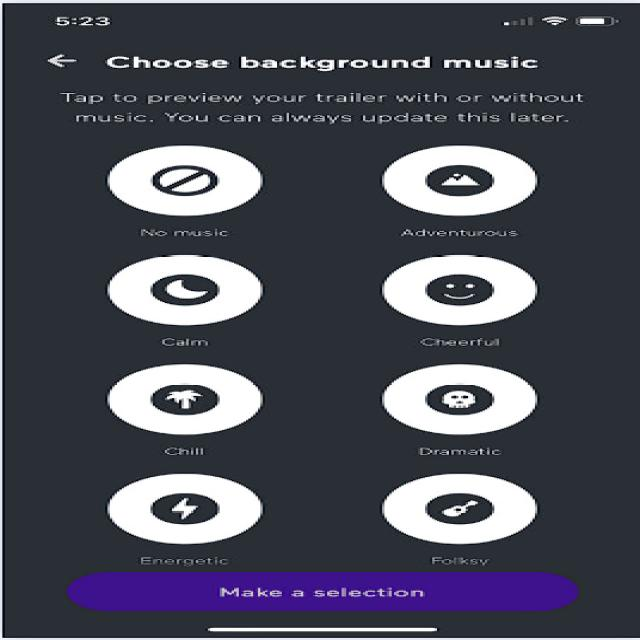button: (39, 572, 601, 616)
column: (332, 138, 603, 572), (81, 138, 322, 572)
icon button: (19, 45, 85, 71)
row: (66, 242, 594, 361), (66, 360, 598, 468), (66, 139, 592, 248), (66, 469, 598, 568)
text: (48, 81, 601, 132), (99, 51, 551, 74)
view: (365, 358, 560, 466), (368, 250, 560, 358), (96, 249, 283, 358), (368, 138, 558, 242), (102, 469, 291, 573), (96, 364, 288, 465), (368, 472, 562, 569), (99, 141, 291, 238)
